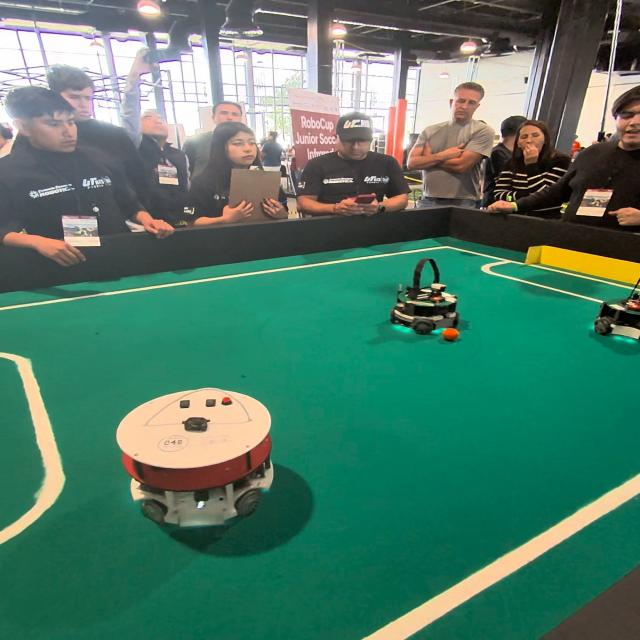Robot: (116, 372, 279, 553), (390, 254, 460, 341), (594, 269, 640, 357)
pelota: (438, 323, 464, 352)
